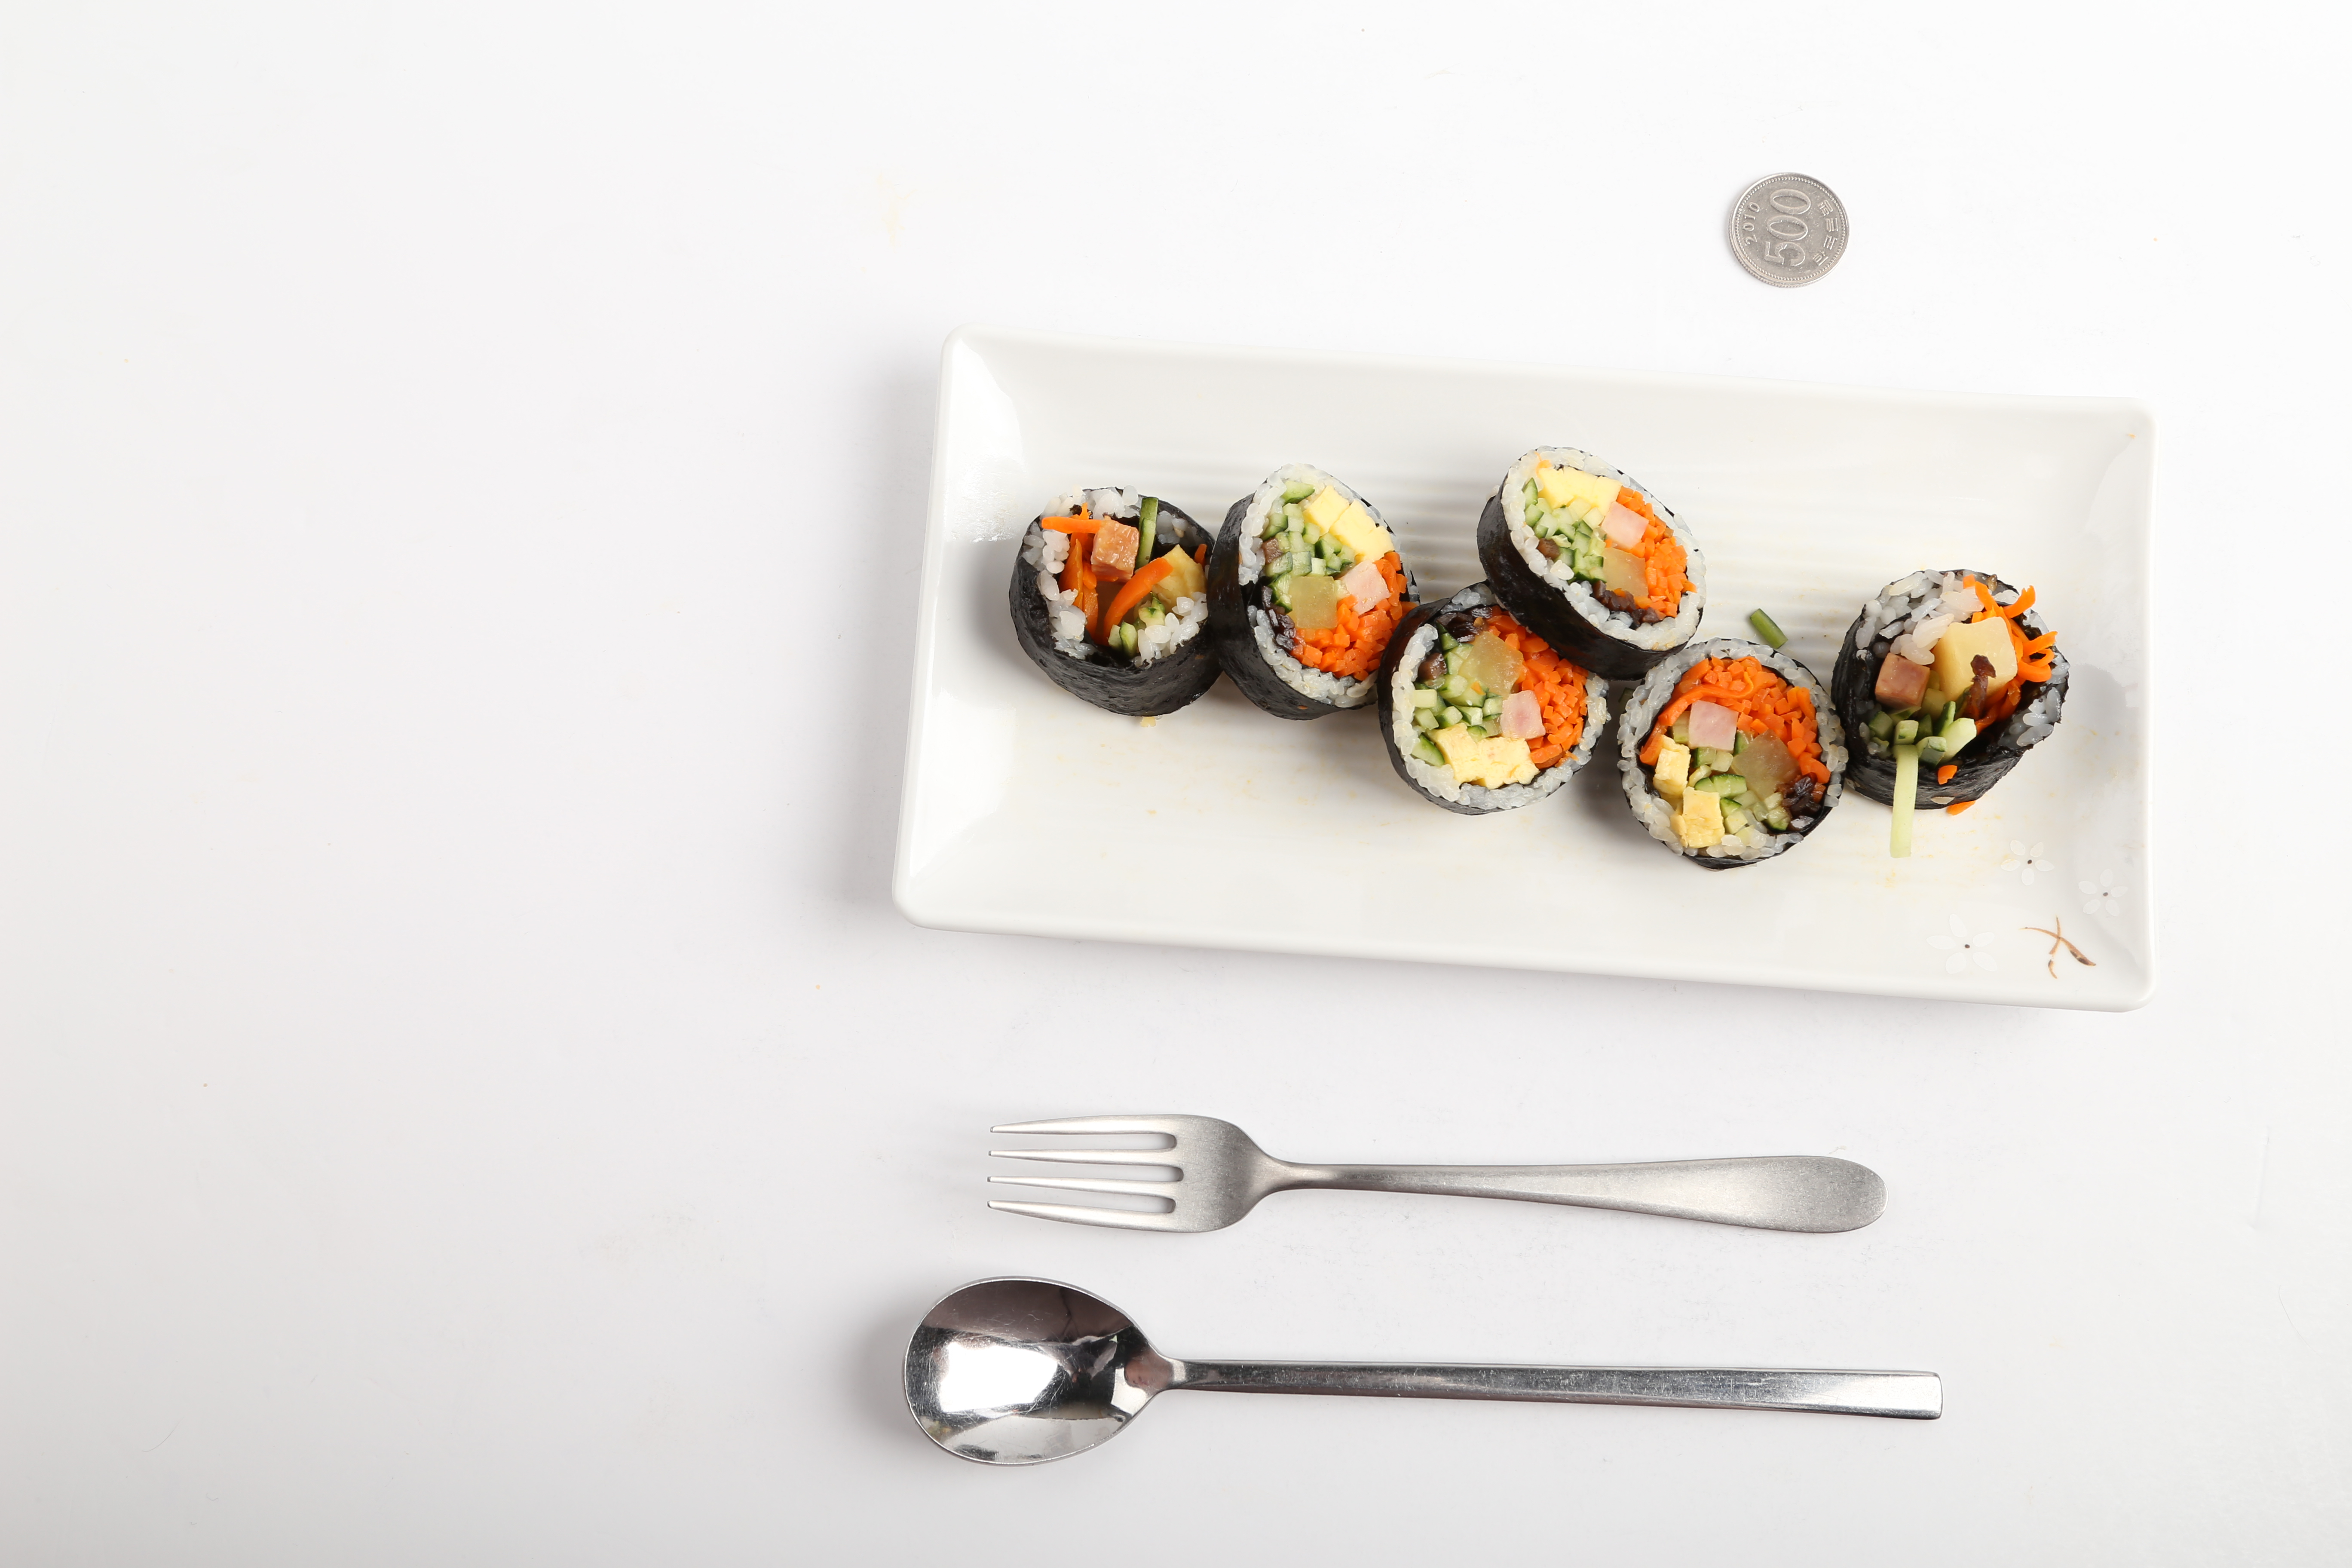dish: (885, 318, 2193, 1017)
ref_coin: (1722, 171, 1853, 292)
ref_fork: (980, 1106, 1337, 1241)
ref_spoon: (896, 1274, 1230, 1468)
김밥: (1006, 439, 2075, 870)
